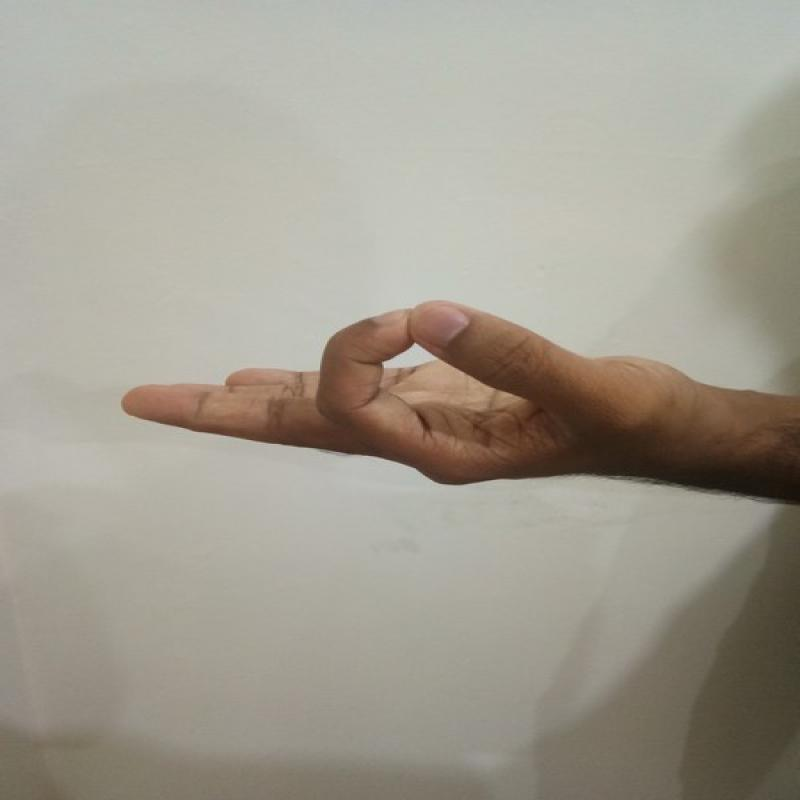Mudraakhyam: (104, 287, 722, 500)
